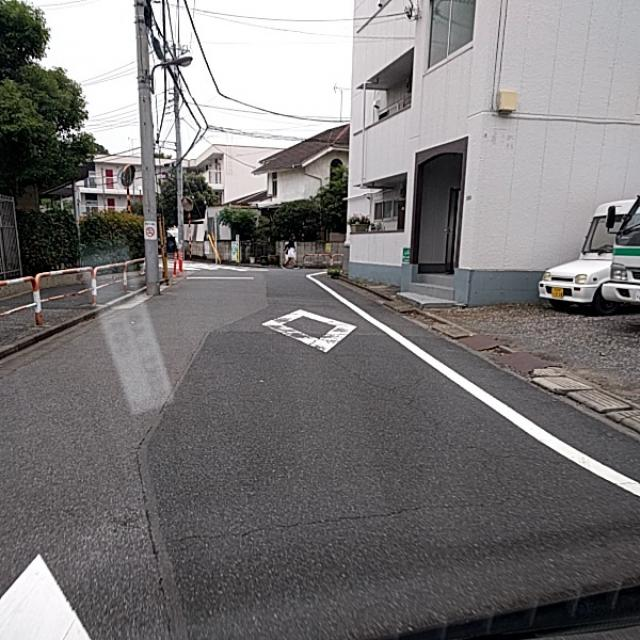pothole: (120, 474, 166, 562)
